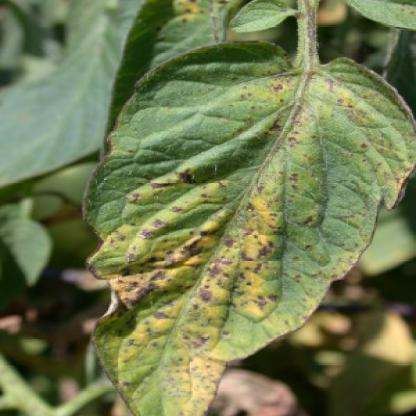Tomato leaf bacterial spot: (86, 27, 408, 415)
